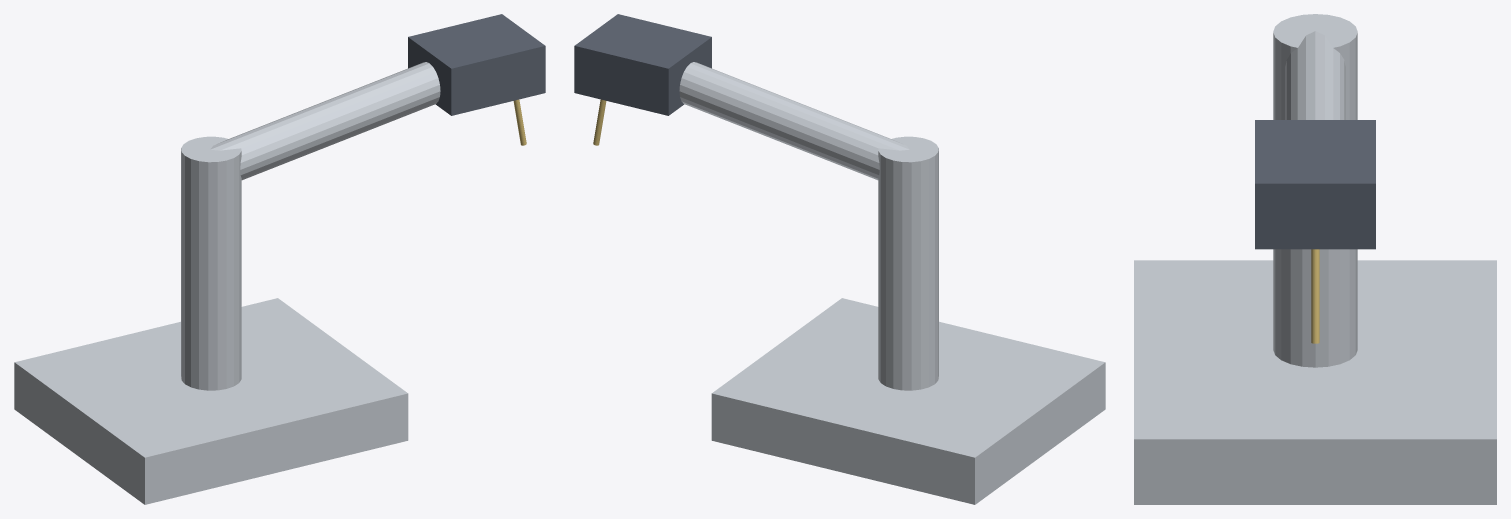
File: fibre.glb
3 views of the same model, side by side, from view 1: azimuth 30°, elevation 25°; view 2: azimuth 150°, elevation 25°; view 3: azimuth 270°, elevation 25° (orthographic). The views are drawn at different scales.
Parts seen in each view (by area): view 1: silver provisional arm base, silver upright, black fibre clamp, silver angle arm; view 2: silver provisional arm base, silver upright, black fibre clamp, silver angle arm; view 3: silver provisional arm base, black fibre clamp, silver upright, silver angle arm, gold fibre tip.
Part boxes in pixels (x1,y1,x2,y2): silver provisional arm base: (14, 298, 408, 504); silver upright: (181, 136, 241, 390); black fibre clamp: (408, 14, 545, 115); silver angle arm: (210, 62, 440, 180); silver provisional arm base: (711, 298, 1105, 504); silver upright: (878, 136, 938, 390); black fibre clamp: (574, 14, 711, 115); silver angle arm: (679, 62, 909, 180); silver provisional arm base: (1134, 260, 1496, 504); black fibre clamp: (1255, 120, 1375, 249); silver upright: (1273, 14, 1357, 367); silver angle arm: (1285, 31, 1345, 119); gold fibre tip: (1311, 249, 1319, 343).
Bounding box in the file's own units: 0.1187 × 0.081 × 0.06.
